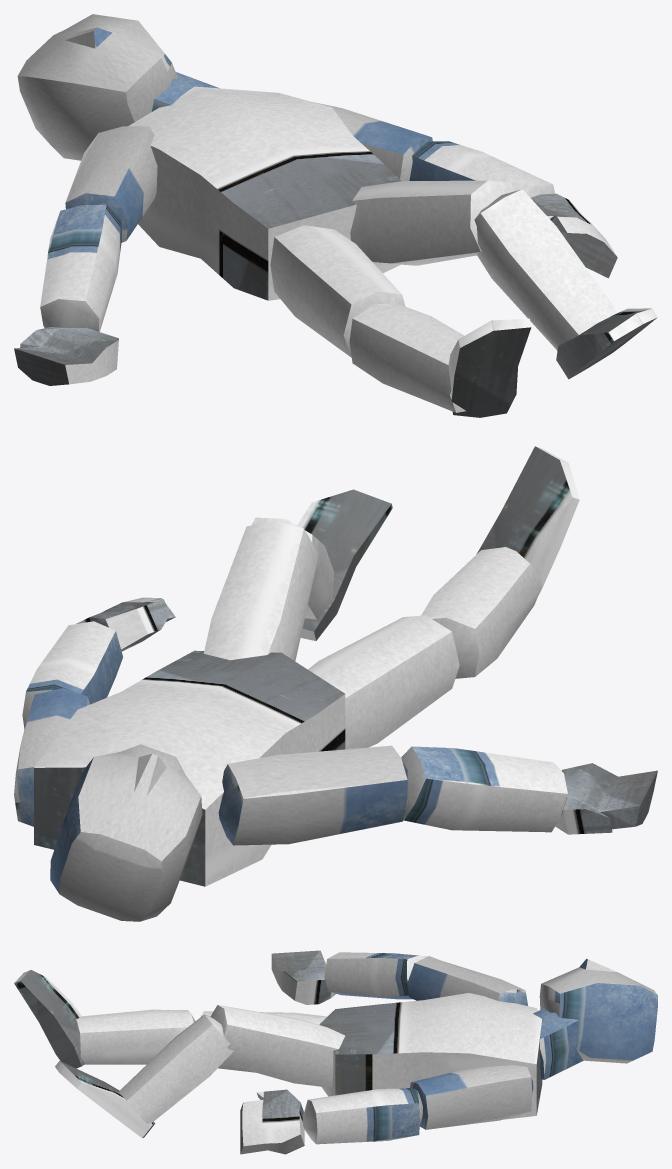
Rendered from Corp_allonger.FBX.
3 views of the same model, one above another, from view 1: azimuth 30°, elevation 25°; view 2: azimuth 150°, elevation 25°; view 3: azimuth 270°, elevation 25° (orthographic). The views are drawn at different scales.
Parts seen in each view (by area): view 1: Allongé; view 2: Allongé; view 3: Allongé.
Part boxes in pixels (left/top/right/bottom): Allongé: left=14, top=14, right=657, bottom=417; Allongé: left=14, top=446, right=657, bottom=921; Allongé: left=14, top=950, right=657, bottom=1154.
Size of the model in its own units: 114 by 31.9 by 159.
